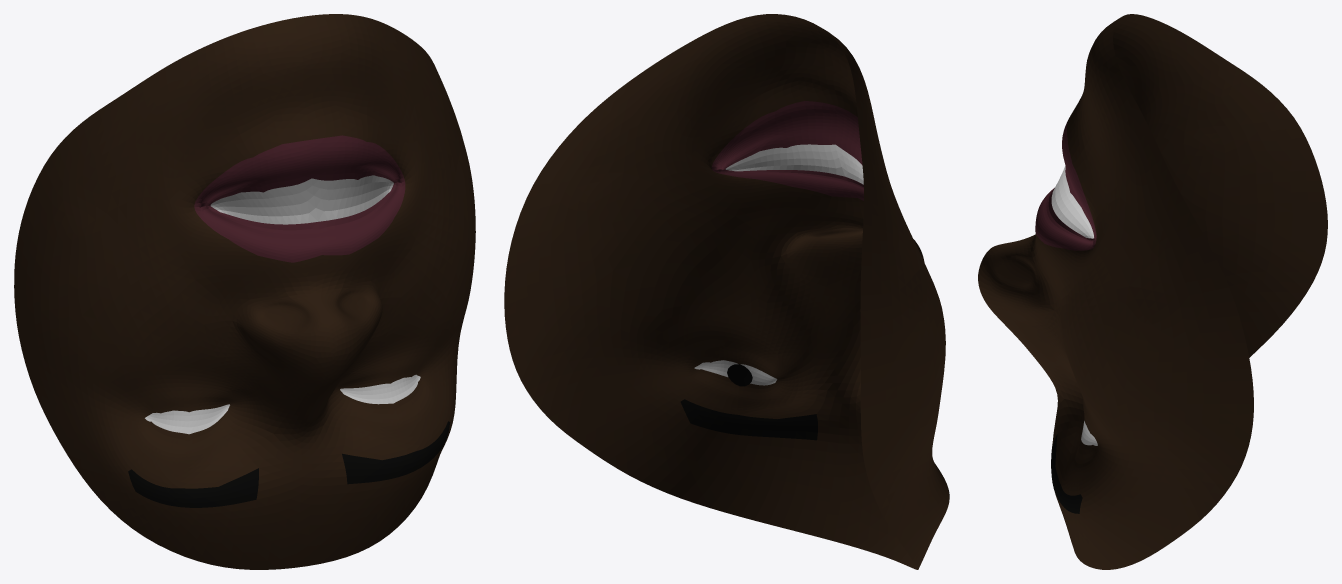
File: IMG_3575.obj
The picture shows the model from 3 angles, left to right: view 1: azimuth 30°, elevation 25°; view 2: azimuth 150°, elevation 25°; view 3: azimuth 270°, elevation 25°; orthographic projection. The views are drawn at different scales.
Parts seen in each view (by area): view 1: face_mesh_subdivided; view 2: face_mesh_subdivided; view 3: face_mesh_subdivided.
Boxes of the visible parts, x1,y1,x2,y2 form: face_mesh_subdivided: (14, 14, 475, 569); face_mesh_subdivided: (504, 14, 949, 569); face_mesh_subdivided: (978, 14, 1327, 569).
Size of the model in its own units: 0.5953 by 0.7472 by 0.4663.
